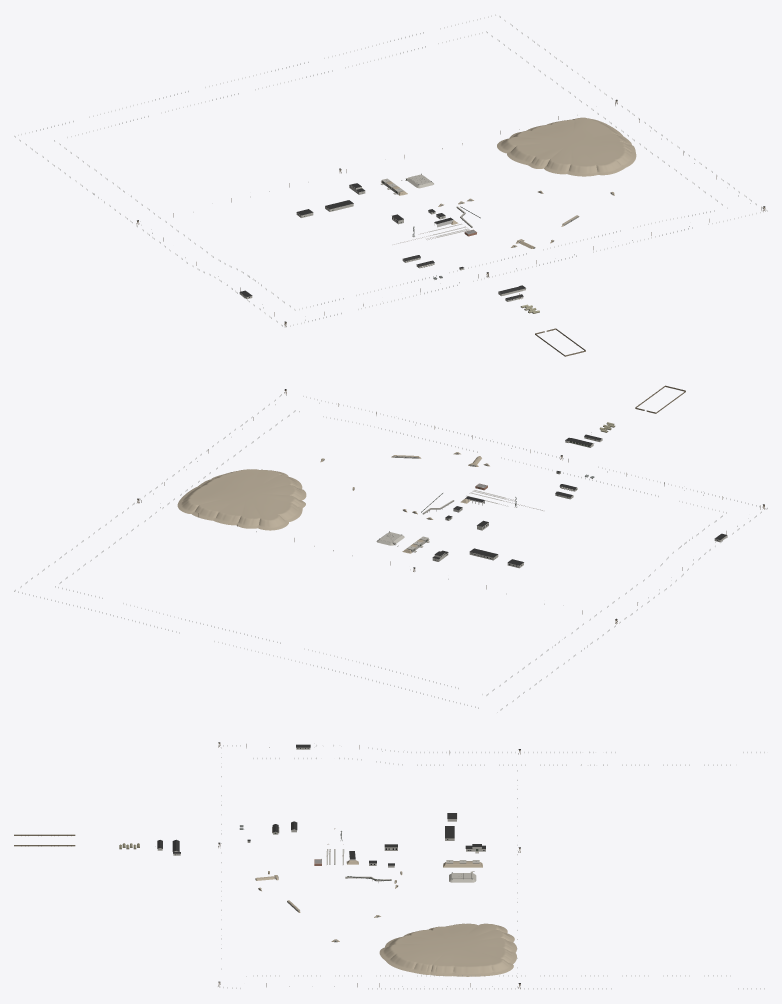
The picture shows the model from 3 angles, top to bottom: view 1: azimuth 30°, elevation 25°; view 2: azimuth 150°, elevation 25°; view 3: azimuth 270°, elevation 25°; orthographic projection.
Parts seen in each view (by area): view 1: SpoilHeap_Earth; view 2: SpoilHeap_Earth; view 3: SpoilHeap_Earth.
Boxes of the visible parts, x1=… form: SpoilHeap_Earth: x1=497, y1=117, x2=636, y2=176; SpoilHeap_Earth: x1=177, y1=469, x2=306, y2=530; SpoilHeap_Earth: x1=379, y1=923, x2=516, y2=976.
Size of the model in its own units: 922 by 34.08 by 1221.
